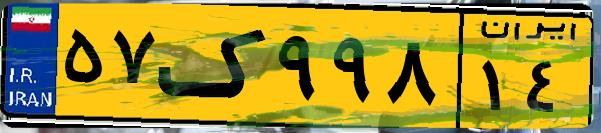1: (475, 38, 525, 113)
4: (525, 38, 570, 115)
5: (57, 26, 110, 100)
7: (110, 28, 158, 98)
8: (385, 28, 445, 110)
9: (270, 28, 330, 110), (330, 28, 385, 110)
ک: (158, 12, 270, 120)
